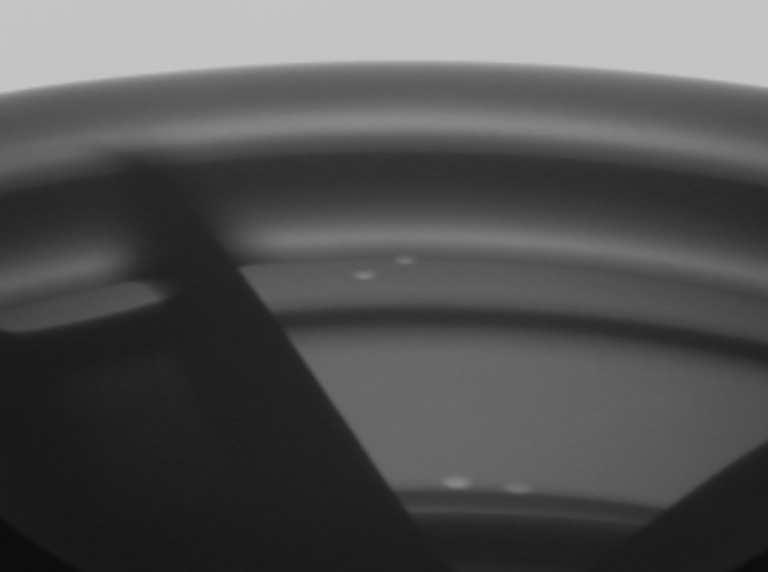defect: (501, 467, 540, 503)
